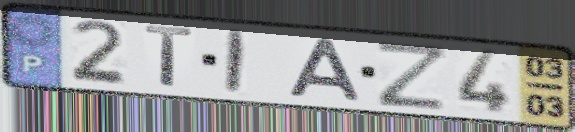2: (69, 19, 130, 87)
4: (453, 47, 515, 117)
A: (282, 36, 367, 105)
I: (222, 27, 250, 97)
T: (141, 22, 197, 91)
Z: (374, 39, 452, 113)
